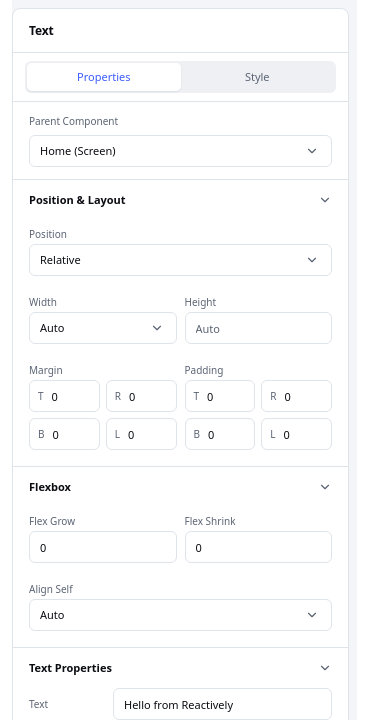
Scenario: flexbox inspector › exposes only supported Align Self values
The image size is (374, 720).
Click the dropdown named "Align Self" at [52, 614], box [29,599,332,631]
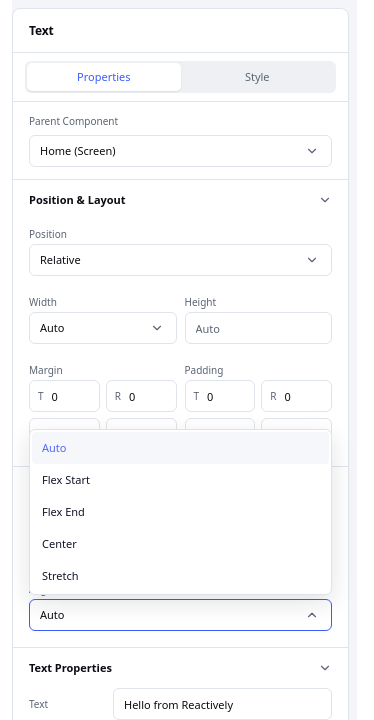
Check: the option "Auto" is shown, box [32,432,329,464]
Check: the option "Flex Start" is shown, box [42,472,90,487]
Check: the option "Flex End" is shown, box [42,504,85,519]
